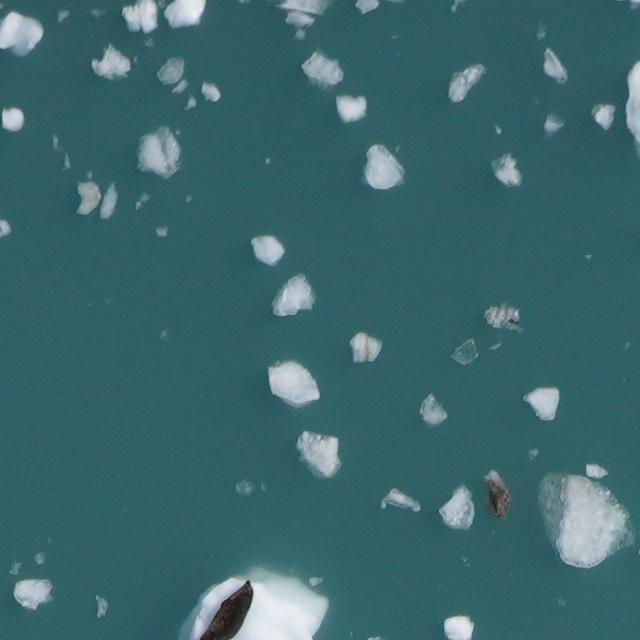seal: (196, 579, 255, 639)
